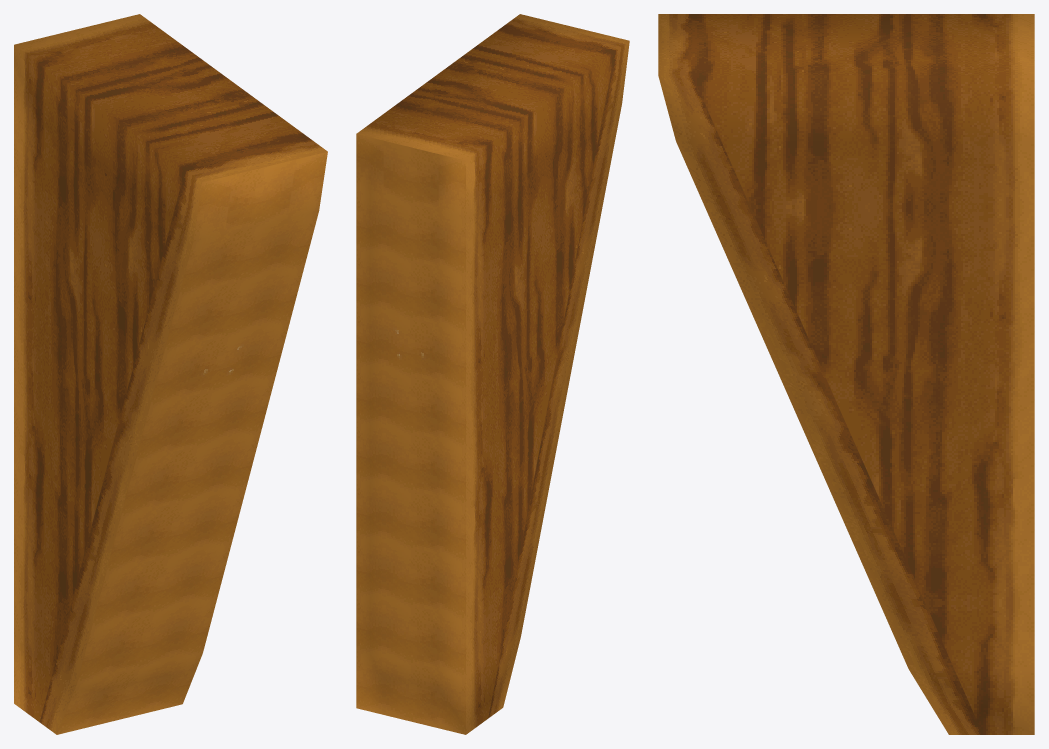
File: SM_AP_CanyonWall_Ramp_0.glb
3 renders of one model, left to right at view 1: azimuth 30°, elevation 25°; view 2: azimuth 150°, elevation 25°; view 3: azimuth 270°, elevation 25°, orthographic. The views are drawn at different scales.
Parts seen in each view (by area): view 1: SM_AP_CanyonWall_Ramp_0; view 2: SM_AP_CanyonWall_Ramp_0; view 3: SM_AP_CanyonWall_Ramp_0.
Boxes of the visible parts, x1,y1,x2,y2 form: SM_AP_CanyonWall_Ramp_0: (14,14,327,734); SM_AP_CanyonWall_Ramp_0: (356,14,629,734); SM_AP_CanyonWall_Ramp_0: (658,14,1034,734).
Bounding box in the file's own units: 8 × 40 × 20.69.
1 material, 1 textured.
